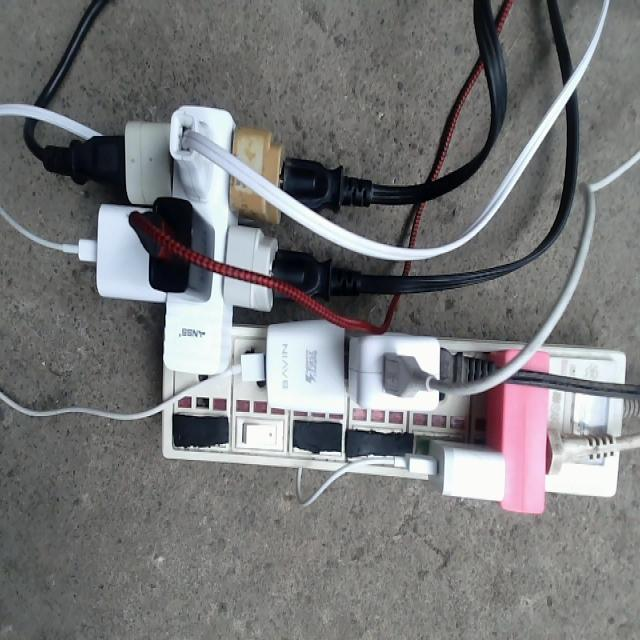-: (76, 103, 629, 513)
